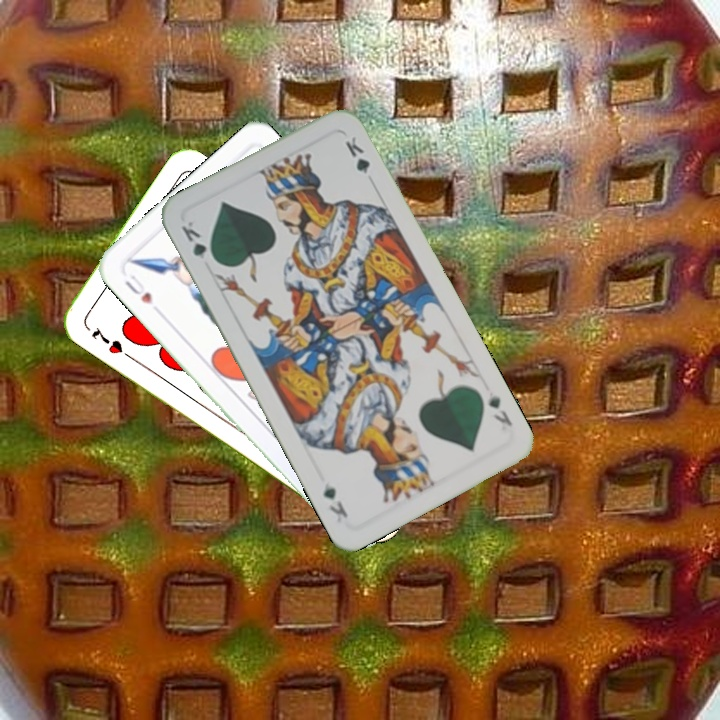GK: (177, 217, 220, 267), (484, 391, 515, 429)
H7: (87, 322, 126, 357)
HU: (120, 269, 155, 307)
